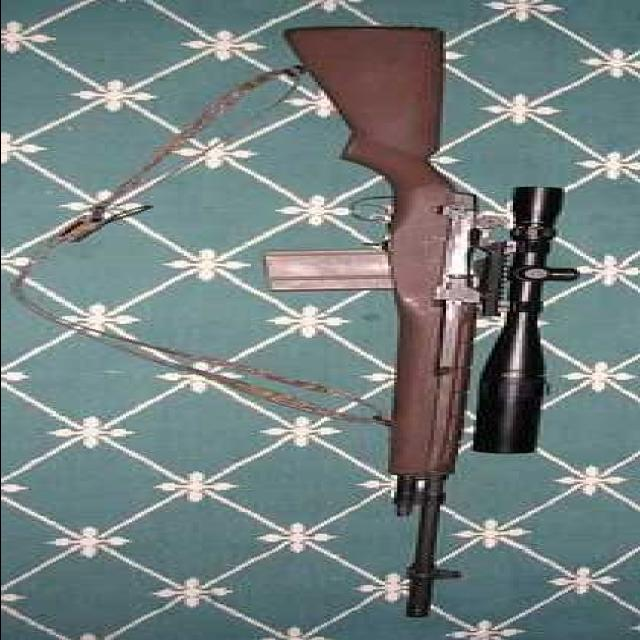heavyweapon: (190, 29, 596, 633)
